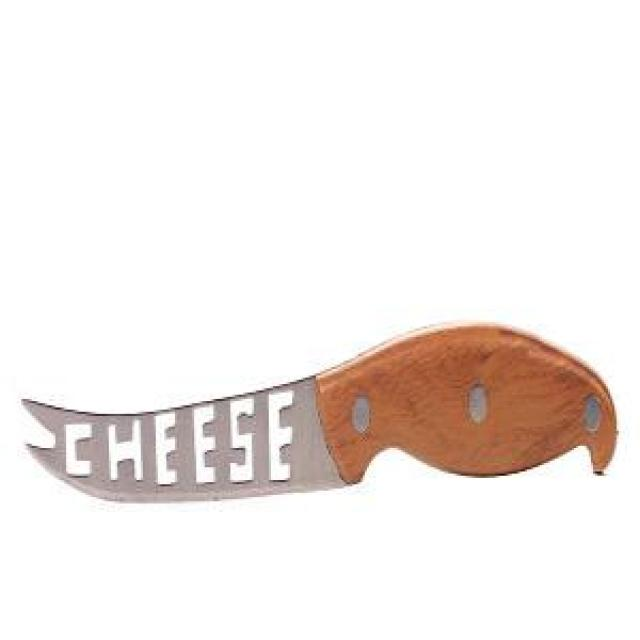knife: (19, 318, 620, 501)
